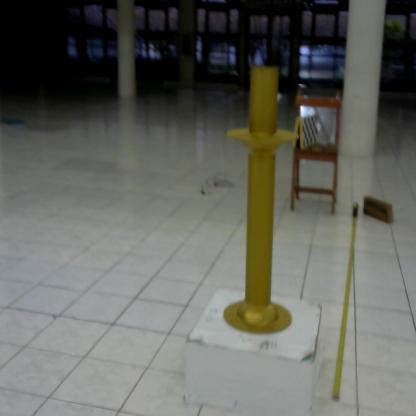pole: (220, 58, 304, 337)
